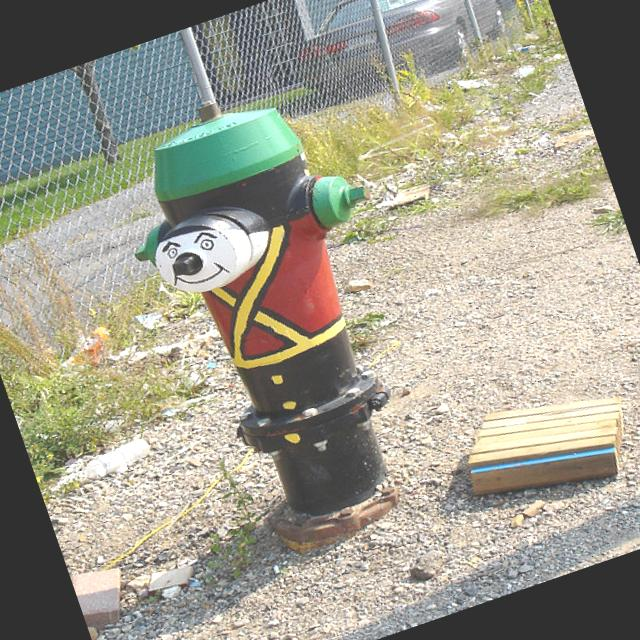Vehicle: (278, 0, 514, 111)
